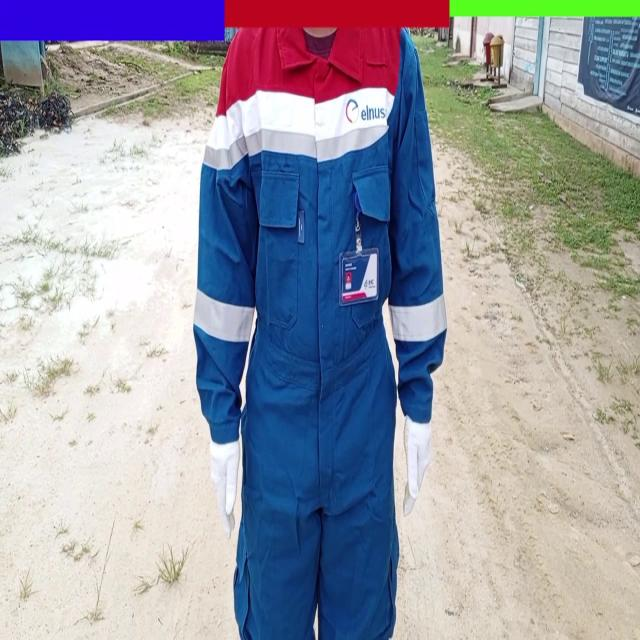Gloves: (400, 417, 436, 514), (212, 441, 240, 534)
Overall Suit: (192, 33, 446, 640)
